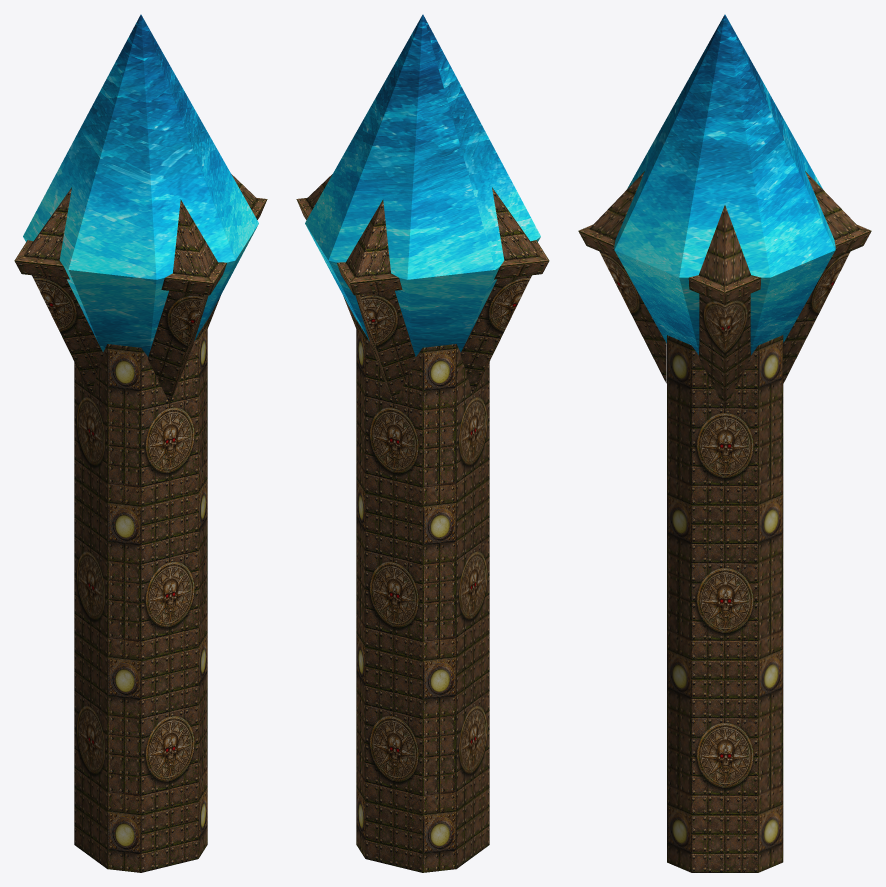
Rendered from mm9_deco_lichengine.glb.
The picture shows the model from 3 angles, left to right: view 1: azimuth 30°, elevation 25°; view 2: azimuth 150°, elevation 25°; view 3: azimuth 270°, elevation 25°; orthographic projection.
Parts seen in each view (by area): view 1: Lichengine; view 2: Lichengine; view 3: Lichengine.
Boxes of the visible parts, x1,y1,x2,y2 form: Lichengine: (14,14,267,872); Lichengine: (296,14,549,872); Lichengine: (578,14,871,872).
Bounding box in the file's own units: 1.11 × 3.47 × 1.11.
Materials: 2 (2 with a texture image).
